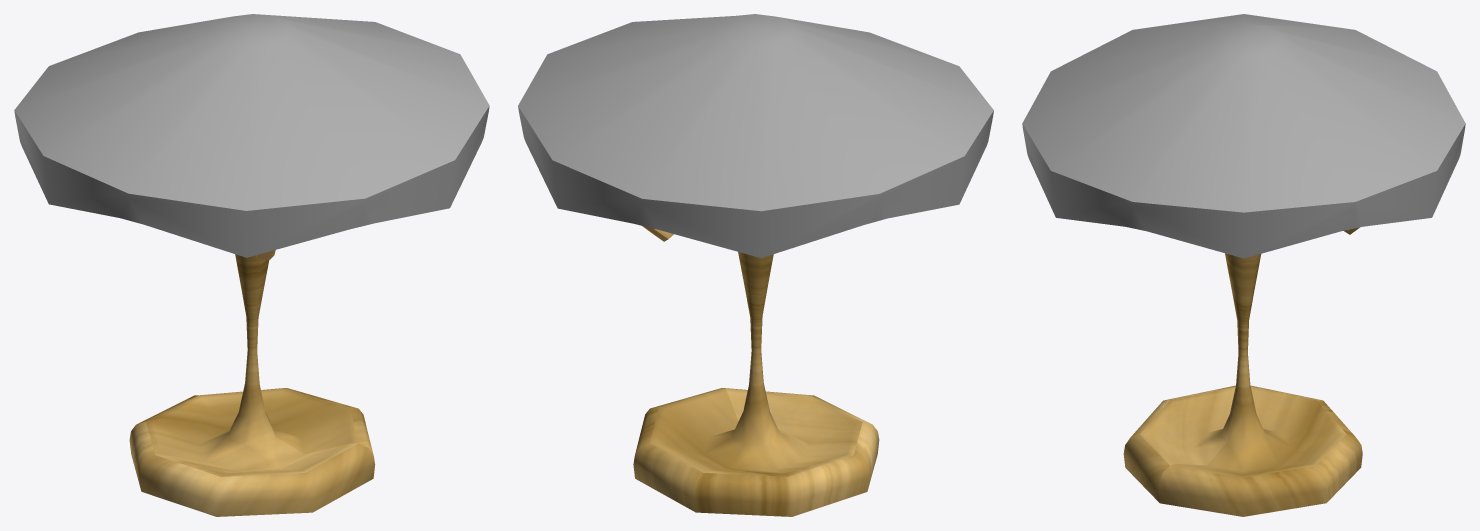
The model's file is Misc_Lamp.fbx.
3 views of the same model, side by side, from view 1: azimuth 30°, elevation 25°; view 2: azimuth 150°, elevation 25°; view 3: azimuth 270°, elevation 25° (orthographic). The views are drawn at different scales.
Parts seen in each view (by area): view 1: LampUVd:polySurface24; view 2: LampUVd:polySurface24; view 3: LampUVd:polySurface24.
Boxes of the visible parts, <box> form: LampUVd:polySurface24: <box>14,14,489,516</box>; LampUVd:polySurface24: <box>518,14,993,516</box>; LampUVd:polySurface24: <box>1022,14,1465,516</box>.
Size of the model in its own units: 92.29 by 93.1 by 87.06.
